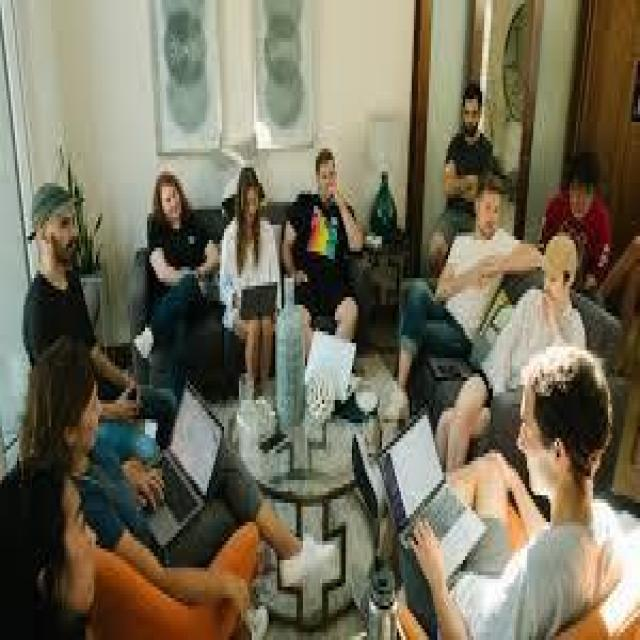person: (497, 309, 623, 636), (0, 457, 130, 636), (15, 156, 111, 392), (424, 160, 520, 362), (495, 160, 584, 366), (286, 126, 369, 335), (209, 137, 280, 366), (533, 141, 638, 293), (8, 324, 109, 480), (143, 171, 218, 381), (438, 57, 488, 290)
